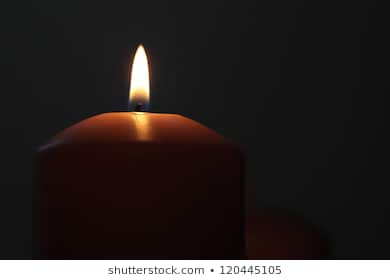Fire: (126, 40, 156, 107)
